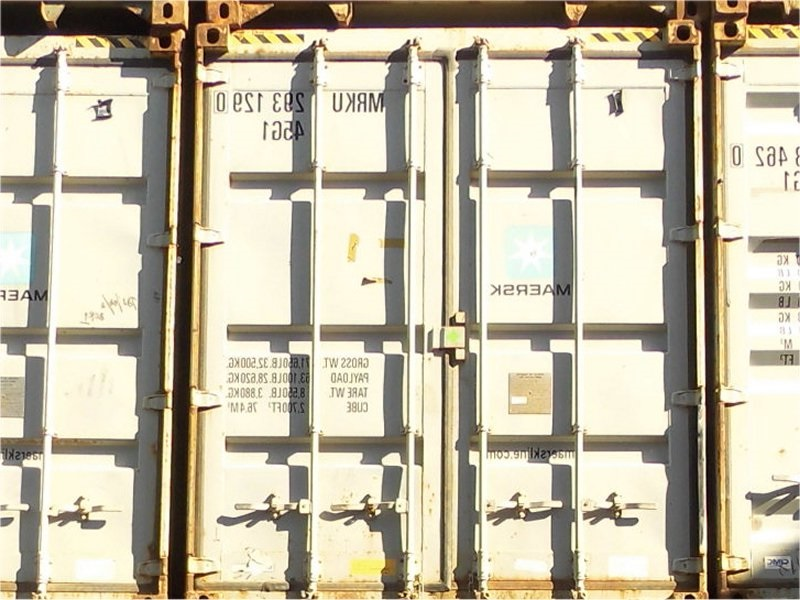container_door: (189, 23, 701, 600)
